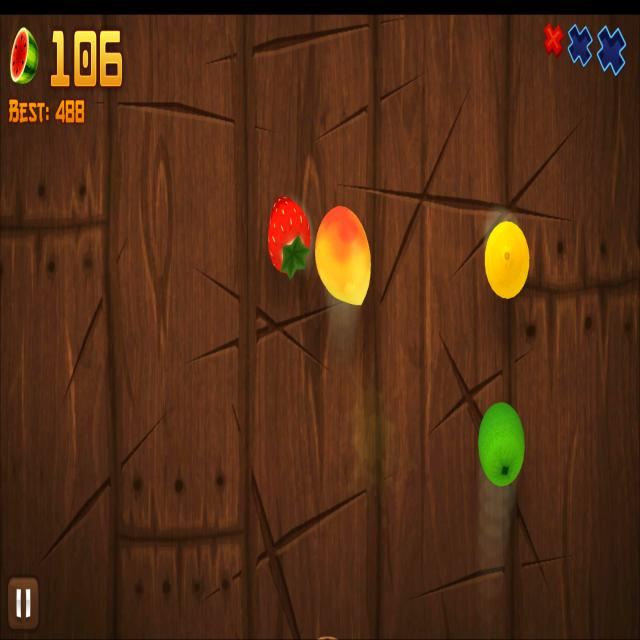fruit: (314, 205, 372, 307), (478, 399, 526, 489), (484, 218, 530, 302), (268, 195, 310, 273)
